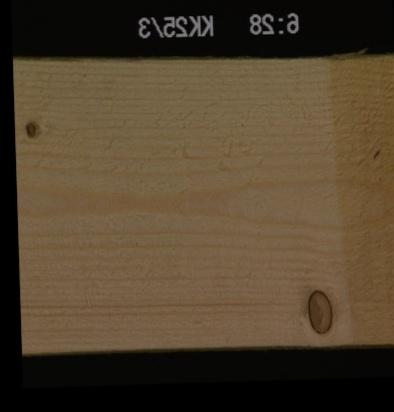dry_knot: (305, 287, 334, 334)
small_knot: (23, 118, 38, 138)
